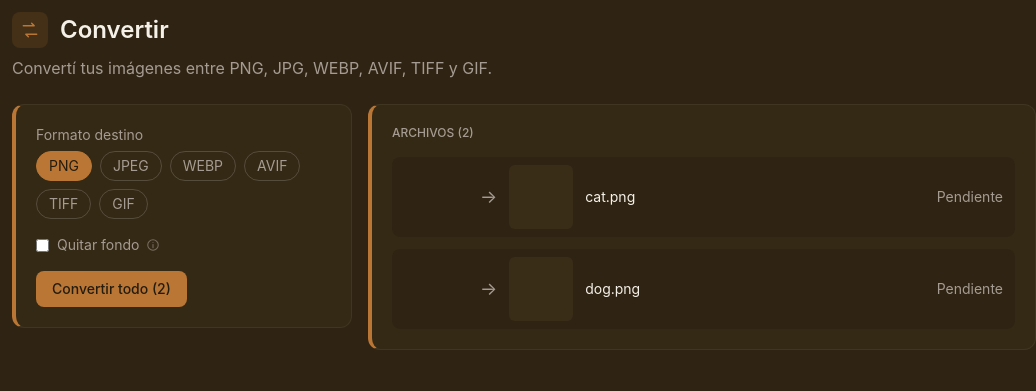
ConvertScreen › converts every selected file into the chosen directory
Click the button "WEBP" at (203, 166), box [170,151,236,181]
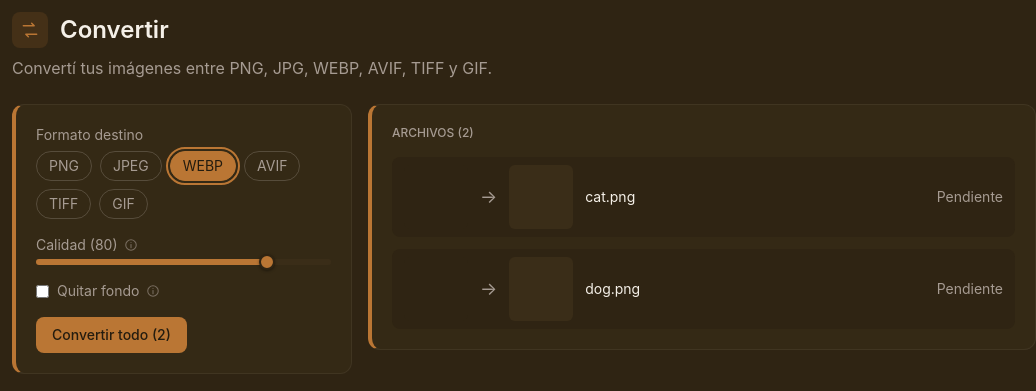
Click the button "Convertir todo (2)" at (111, 335), box [36,317,187,353]
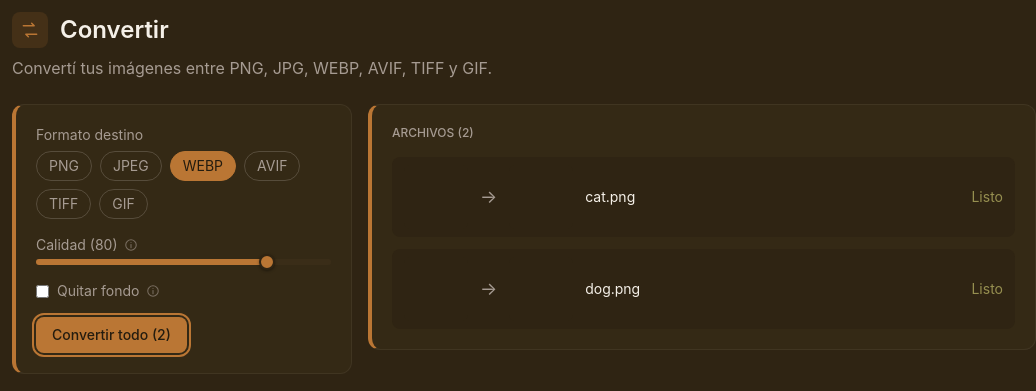
Check: the text "Listo" in the row of "cat.png" is shown, box [972,188,1003,205]
Check: the text "Listo" in the row of "dog.png" is shown, box [972,280,1003,297]
